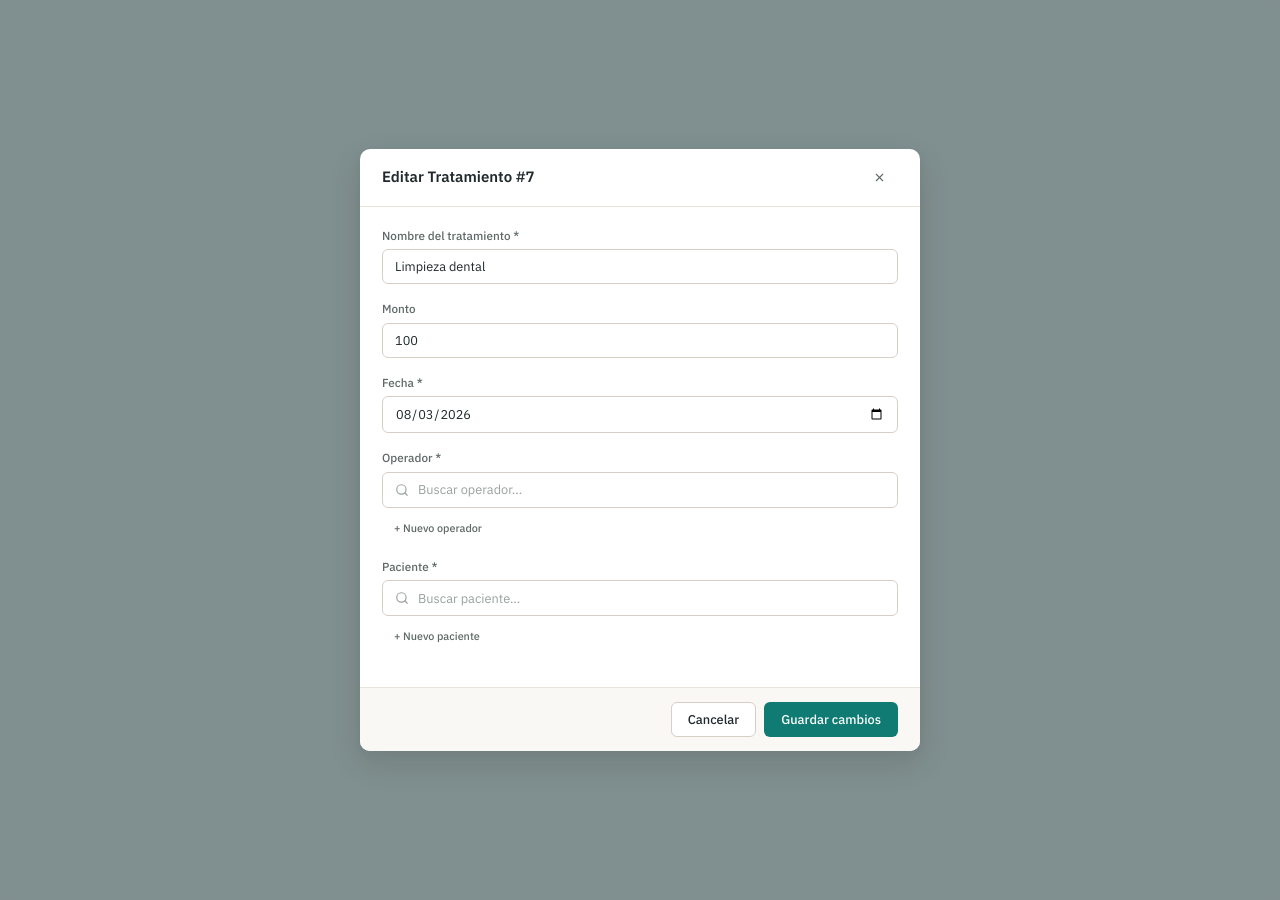
it: EditarTratamientoModal › muestra el error del backend
Click the button "Guardar cambios" at [831, 719], box 764,702 -> 898,737
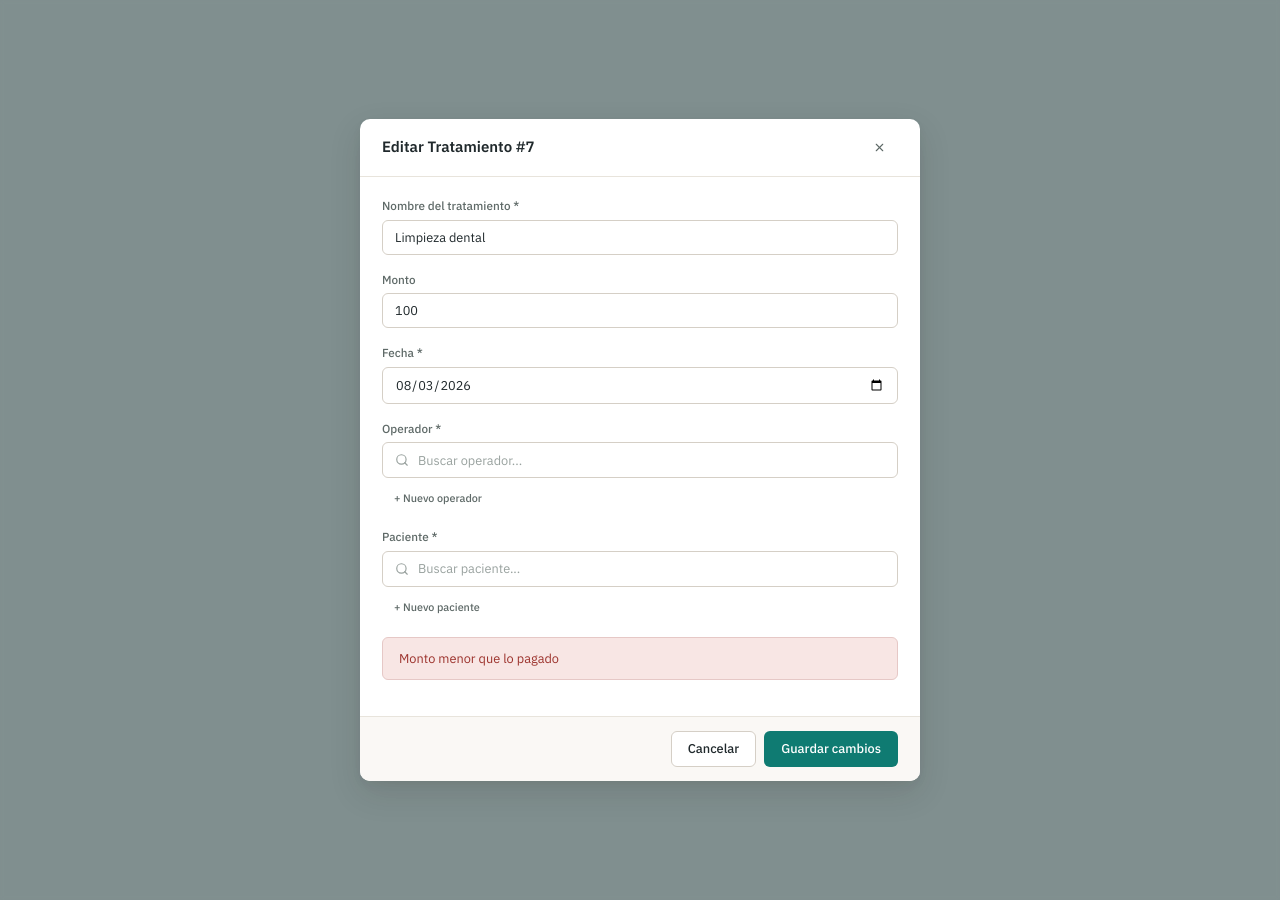
Check: the text "Monto menor que lo pagado" is shown, box 382,637 -> 898,680
